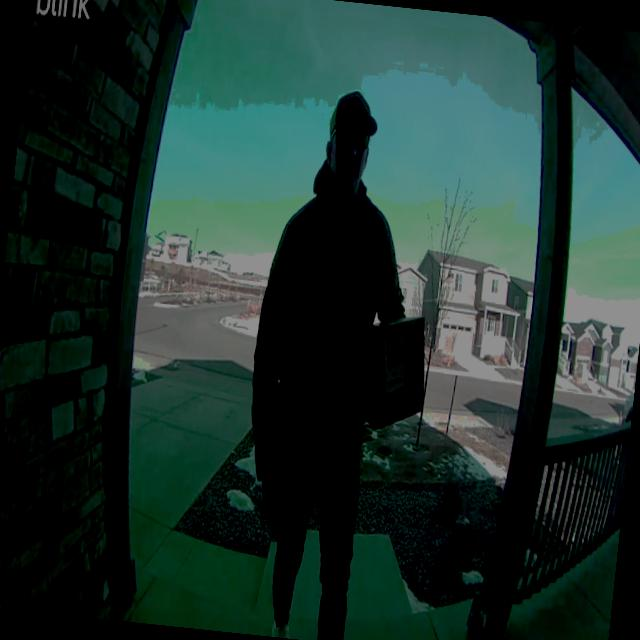Box: (358, 306, 434, 434)
